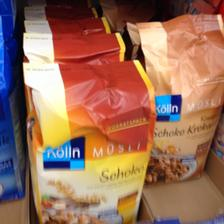Cerealien: (22, 59, 156, 223), (128, 15, 222, 186)
